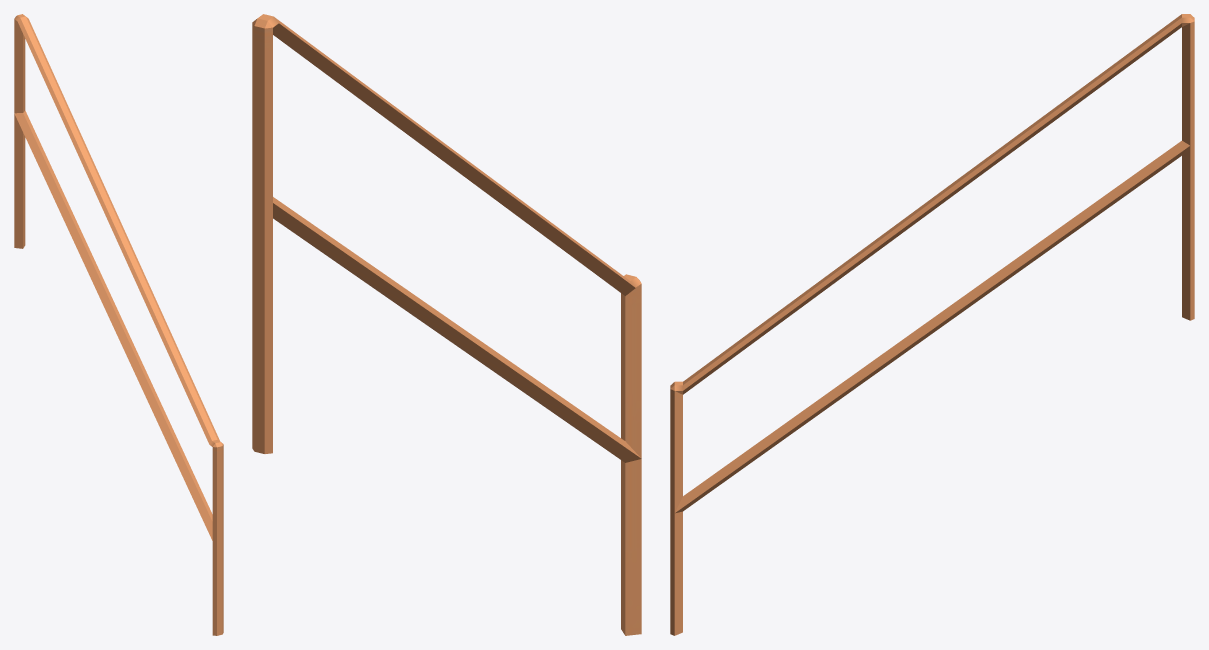
The model's file is RailStairs2x2x1_5R.gltf.
3 views of the same model, side by side, from view 1: azimuth 30°, elevation 25°; view 2: azimuth 150°, elevation 25°; view 3: azimuth 270°, elevation 25° (orthographic). The views are drawn at different scales.
Parts seen in each view (by area): view 1: RailStairs2x2x1_5R21Shape; view 2: RailStairs2x2x1_5R21Shape; view 3: RailStairs2x2x1_5R21Shape.
Part boxes in pixels (<box>): RailStairs2x2x1_5R21Shape: <box>14,14,223,635</box>; RailStairs2x2x1_5R21Shape: <box>252,14,641,635</box>; RailStairs2x2x1_5R21Shape: <box>670,14,1194,635</box>.
Size of the model in its own units: 6.2 by 252 by 194.
Materials: 1 (1 with a texture image).
